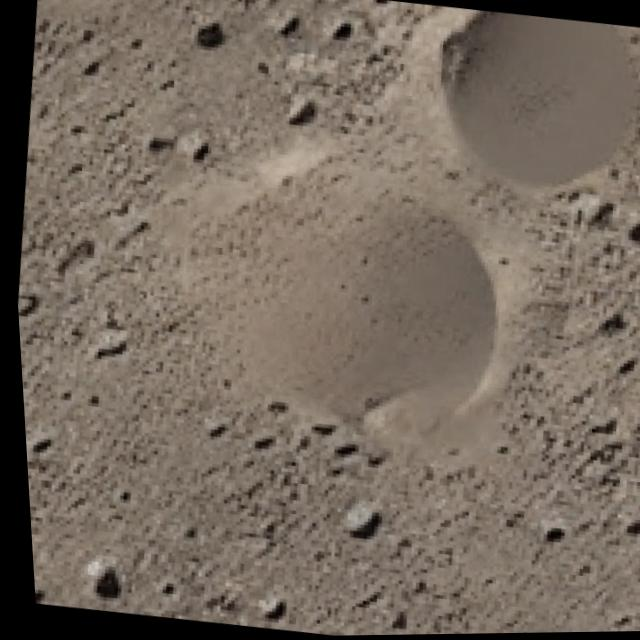Crater: (144, 120, 538, 453), (405, 4, 640, 226)
